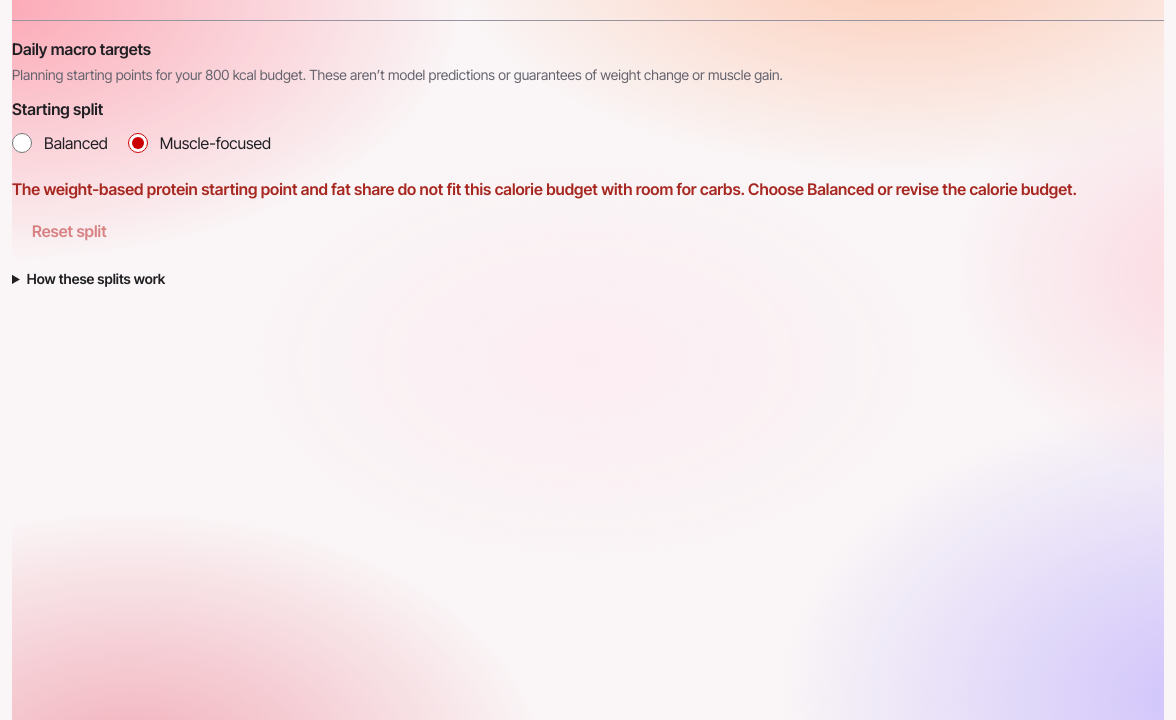
Scenario: macro draft controls › explains an impossible muscle split and leaves preset selection available
The width and height of the screenshot is (1176, 720).
Click the radio button labelled "Balanced" at (22, 143), box 12,133 -> 32,153
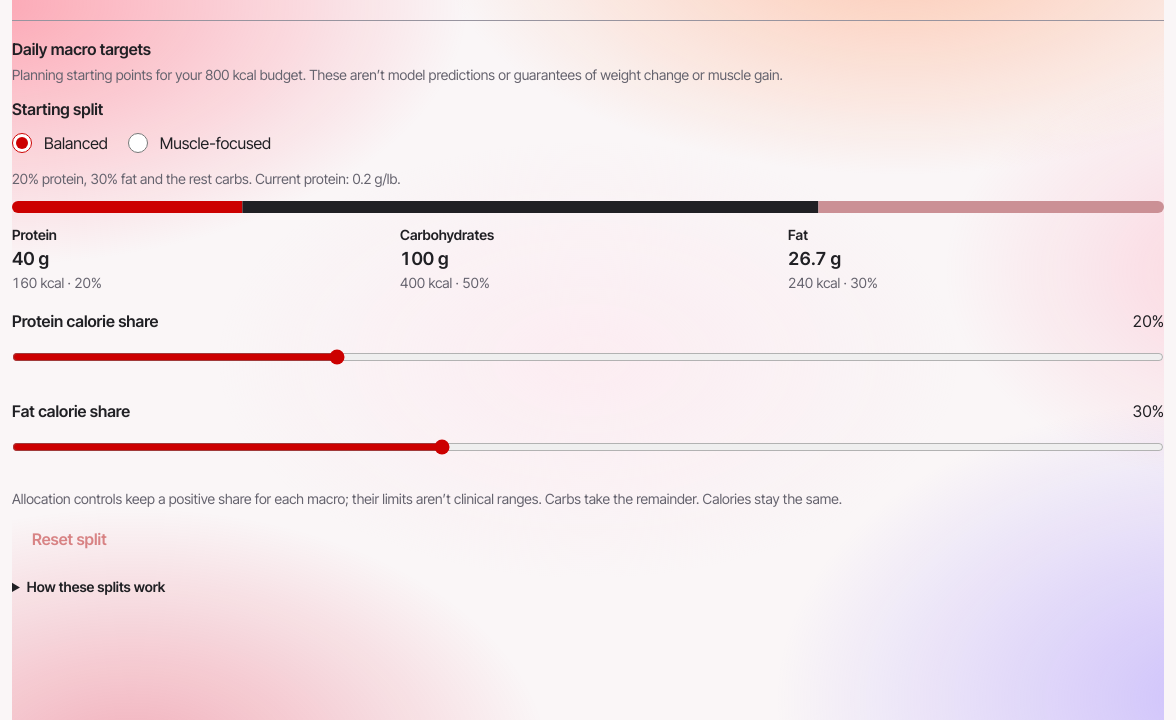
Expected: the message is gone
Expected: the number of sliders is 2, 12,333 -> 1164,381; 12,423 -> 1164,471
Expected: the text "40 g" is shown, 12,248 -> 49,269
